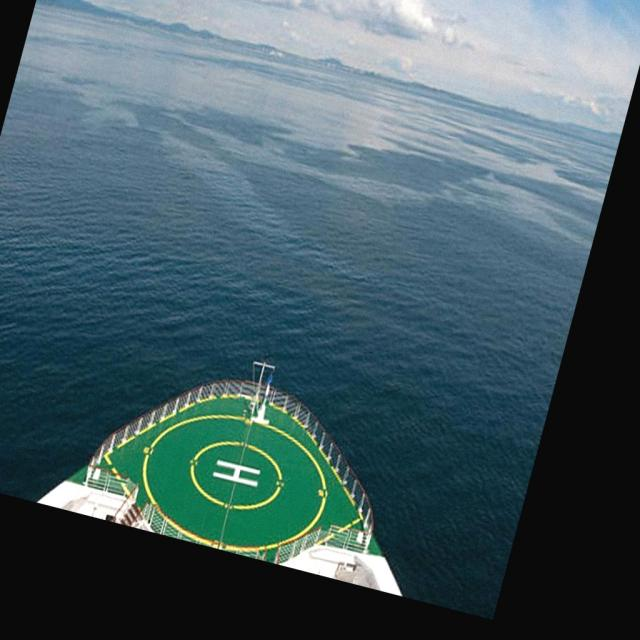helipad: (186, 436, 286, 511)
